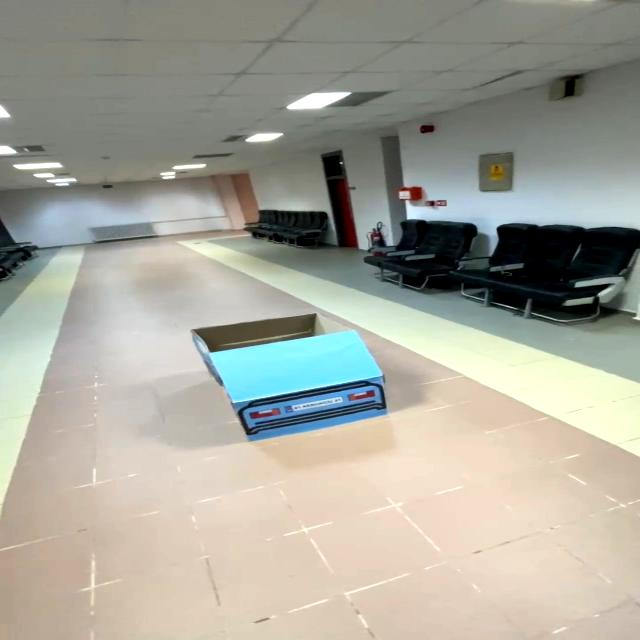blue_car: (171, 303, 401, 449)
